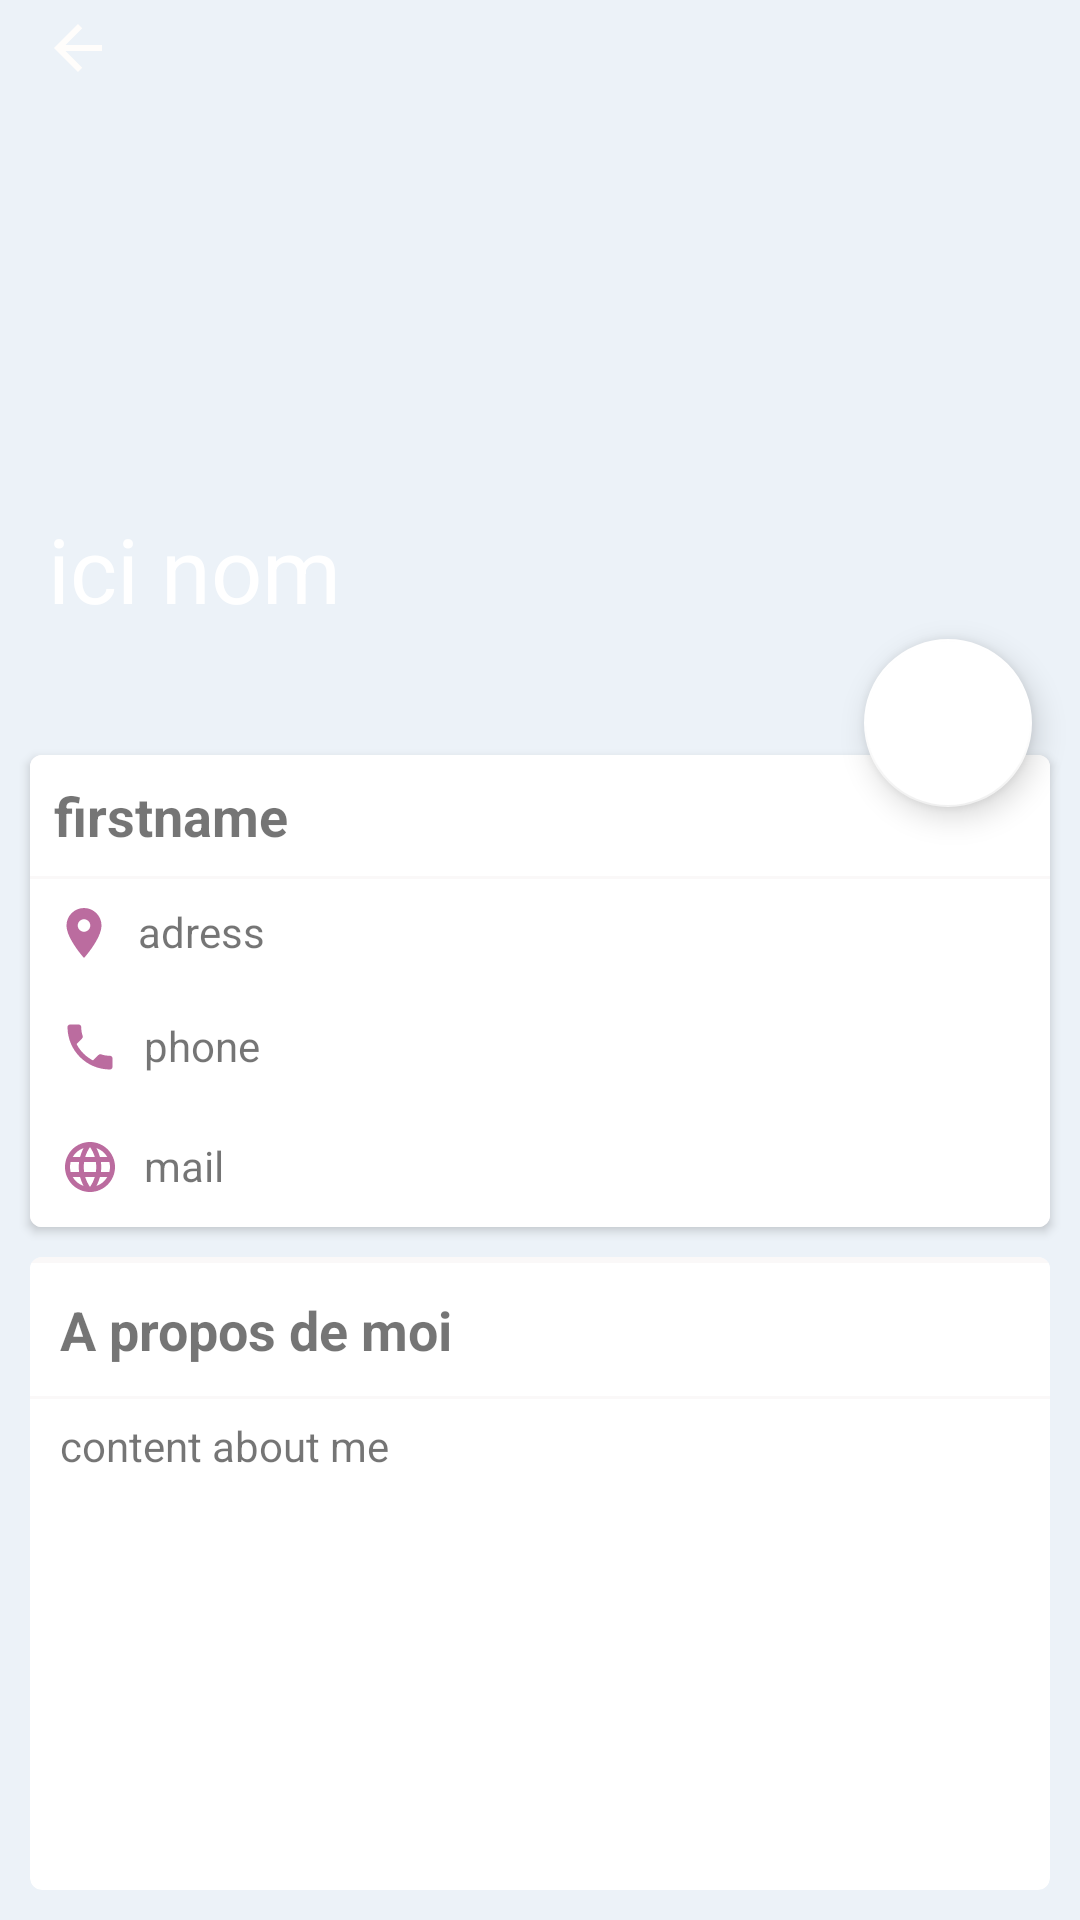

Point at icon controls on the screen. Image size 1080 x 1920, points as [x,y].
language rose: [90,1167]
place rose: [84,933]
